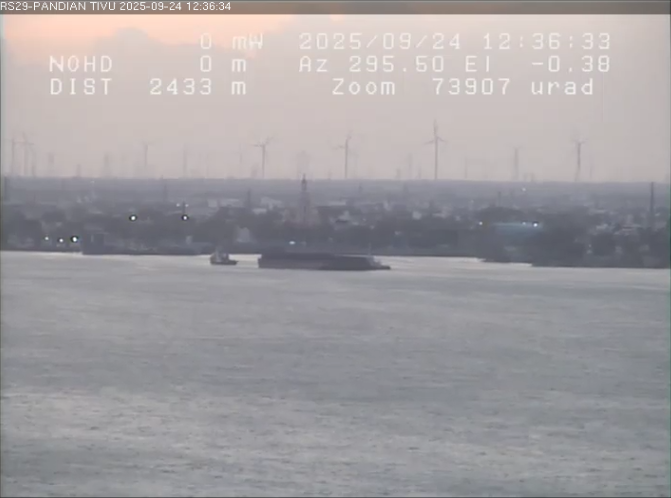BARGE: (246, 235, 406, 282)
TOWING: (176, 217, 449, 302)
TUGS: (201, 242, 243, 272)
